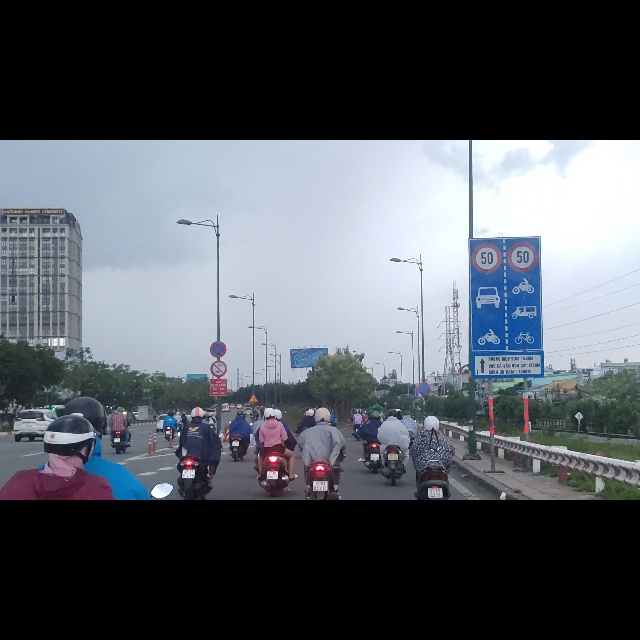bien_cam: (469, 240, 543, 375), (506, 172, 540, 236), (470, 175, 503, 238), (210, 391, 228, 421), (210, 357, 227, 388), (417, 431, 430, 455), (247, 450, 259, 466)
